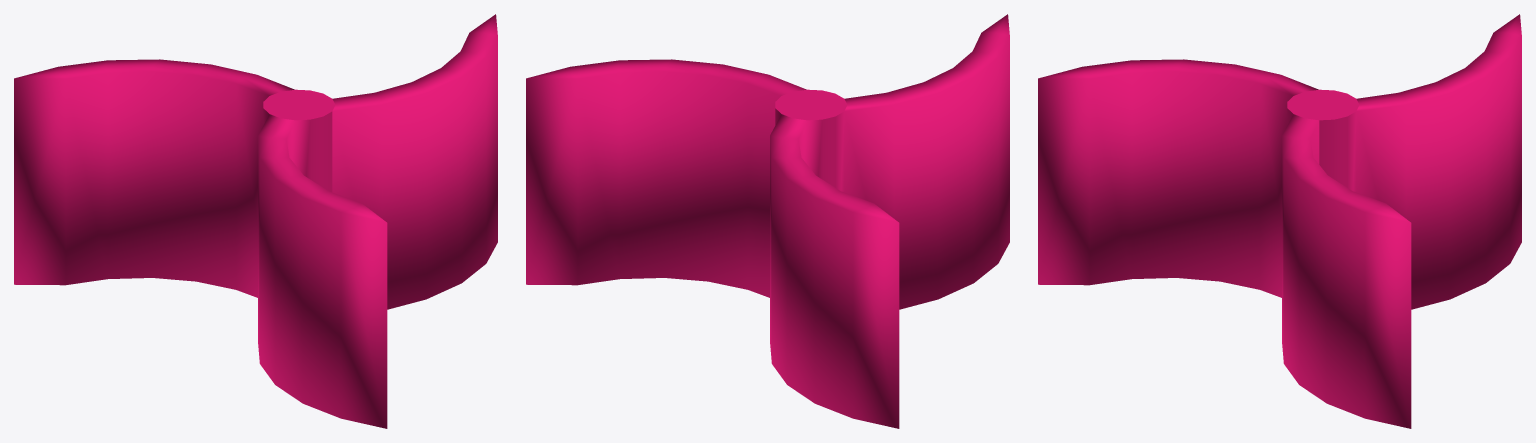
The model's file is pinball_propeller.gltf.
3 views of the same model, side by side, from view 1: azimuth 30°, elevation 25°; view 2: azimuth 150°, elevation 25°; view 3: azimuth 270°, elevation 25° (orthographic).
Parts seen in each view (by area): view 1: propeller; view 2: propeller; view 3: propeller.
Part boxes in pixels (box(x1,y1,x2,y2)): propeller: box(14, 14, 497, 428); propeller: box(526, 14, 1009, 428); propeller: box(1038, 14, 1521, 428).
Bounding box in the file's own units: 0.2711 × 0.125 × 0.2657.
